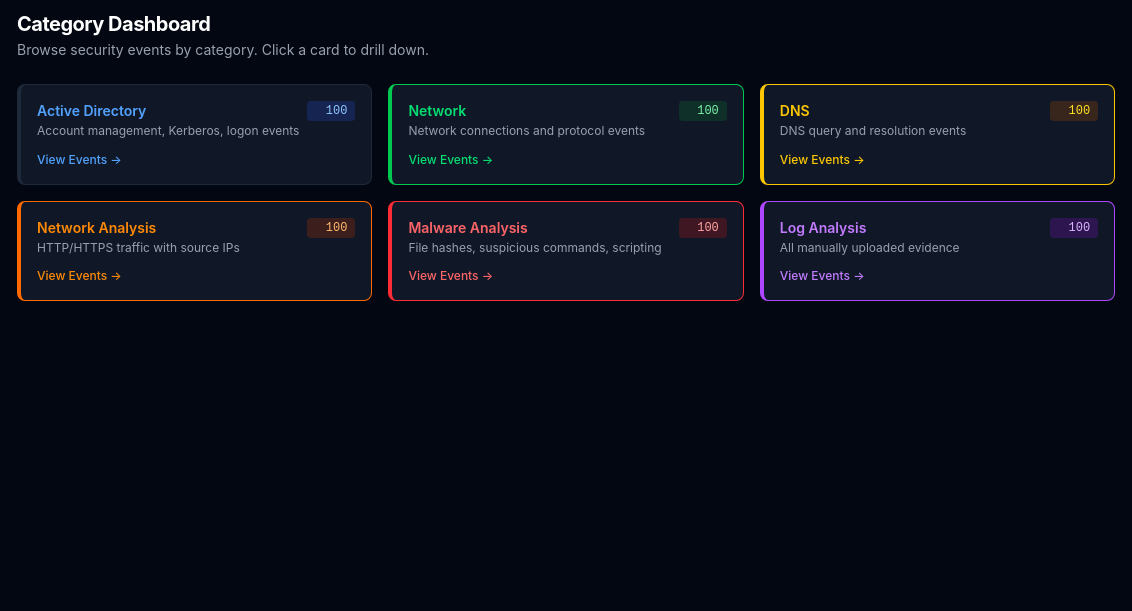
Test case: CategoryDashboardPage › error state › retries the query when the Retry button is clicked
What coordinates should you click on to do the following:
click the heading "Active Directory"
I would click on:
 (92, 110)
Its box is x1=37 y1=102 x2=146 y2=119.
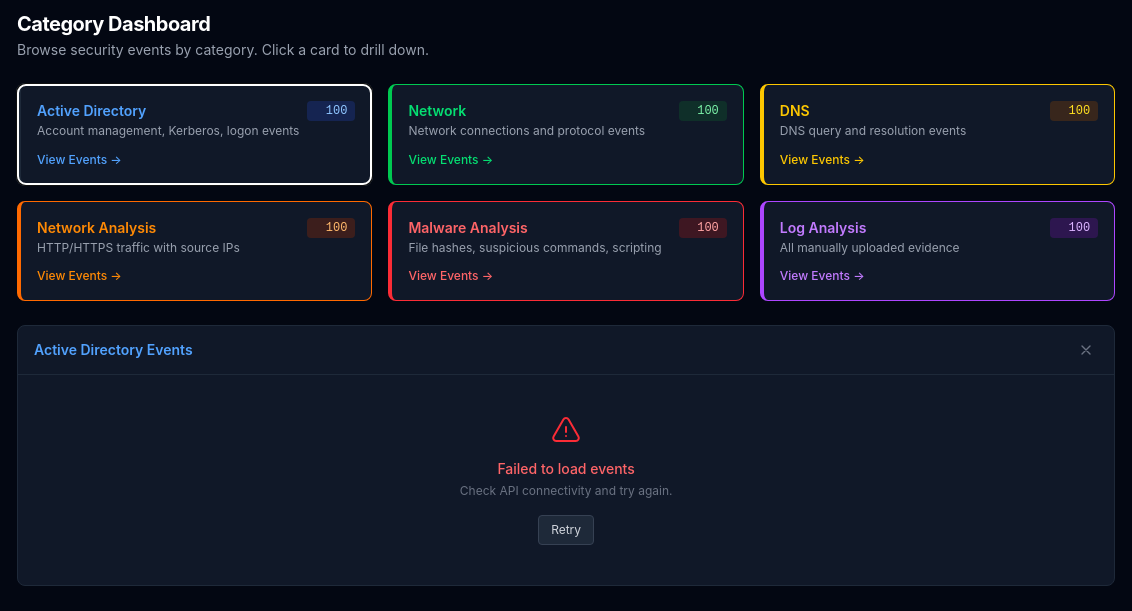
Expected: the message "Failed to load events Check API connectivity and try again. Retry" is shown, x1=460 y1=415 x2=672 y2=545
What coordinates should you click on to do the following:
click the button "Retry"
I would click on:
 (566, 530)
Its box is x1=538 y1=515 x2=594 y2=545.
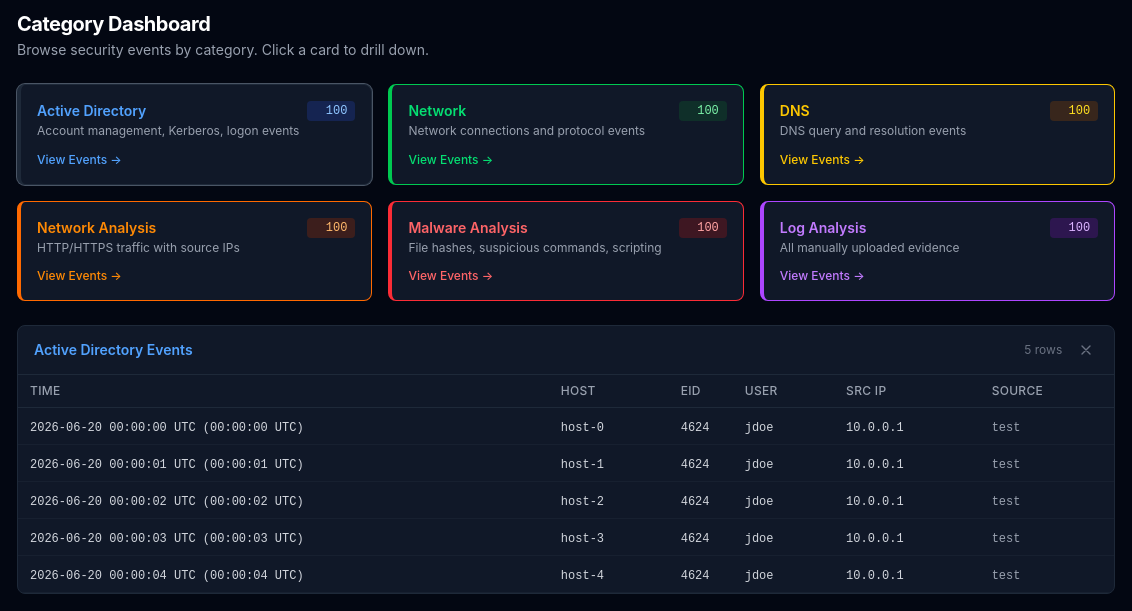
Expected: the message with test id "drill-error-state" is gone
